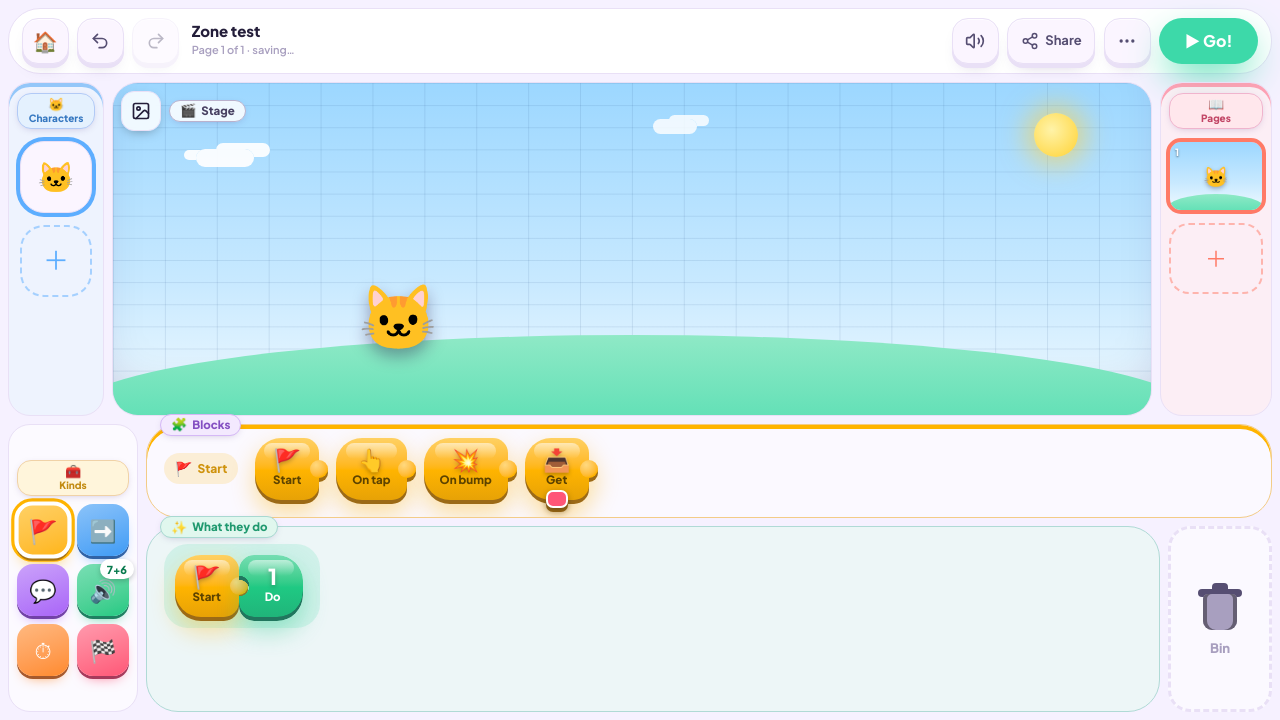
it: BlocksStudioPage zone labels › lets a child choose any note from 1 Do through 7 Ti
Click the button with test id "block-play_note" at (271, 586), box [239,555,303,617]
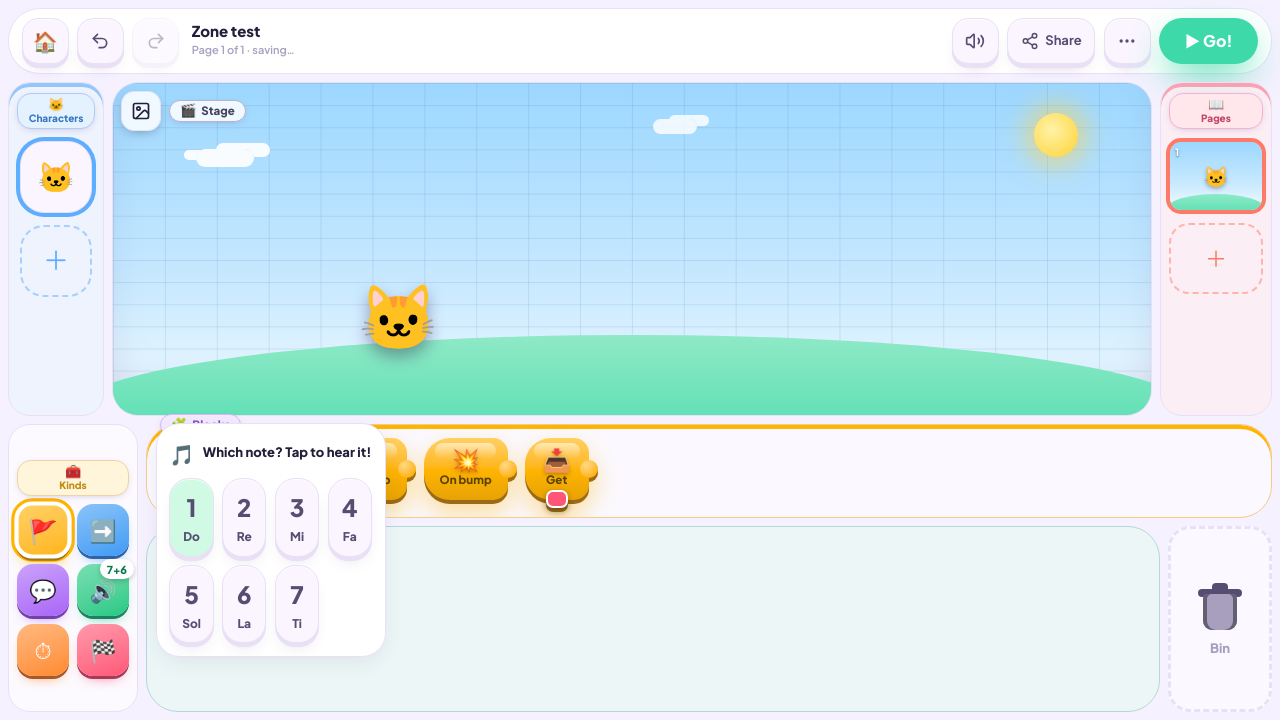
Click the button with test id "note-choice-7" at (297, 604), box [275,565,319,643]
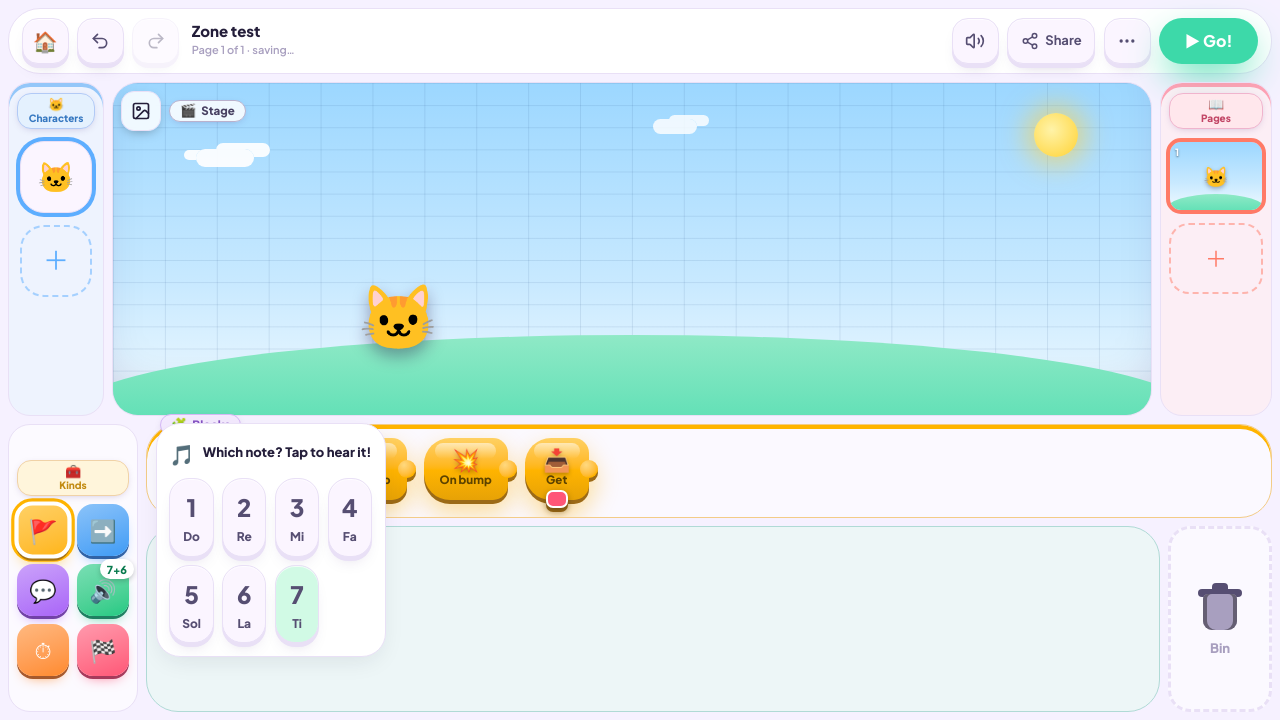
Result: the button with test id "block-play_note" reads "7 Ti" at [239,555,303,617]
